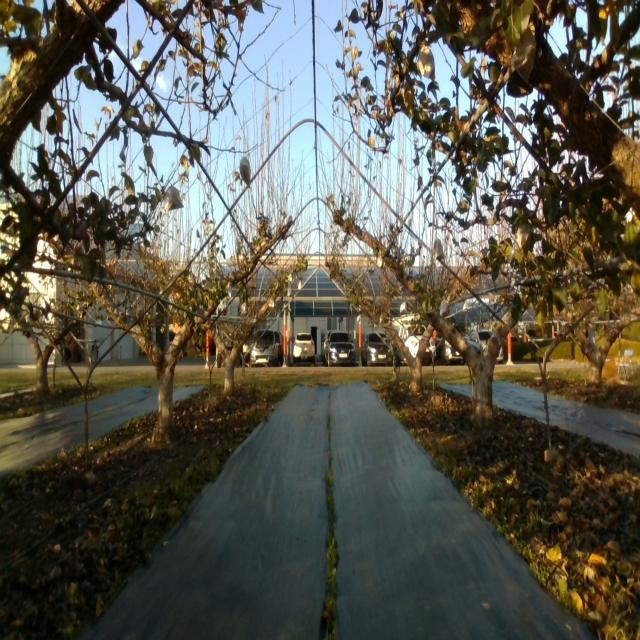pearbags: (417, 44, 436, 80), (164, 186, 183, 212), (240, 156, 252, 188), (433, 239, 445, 261)
